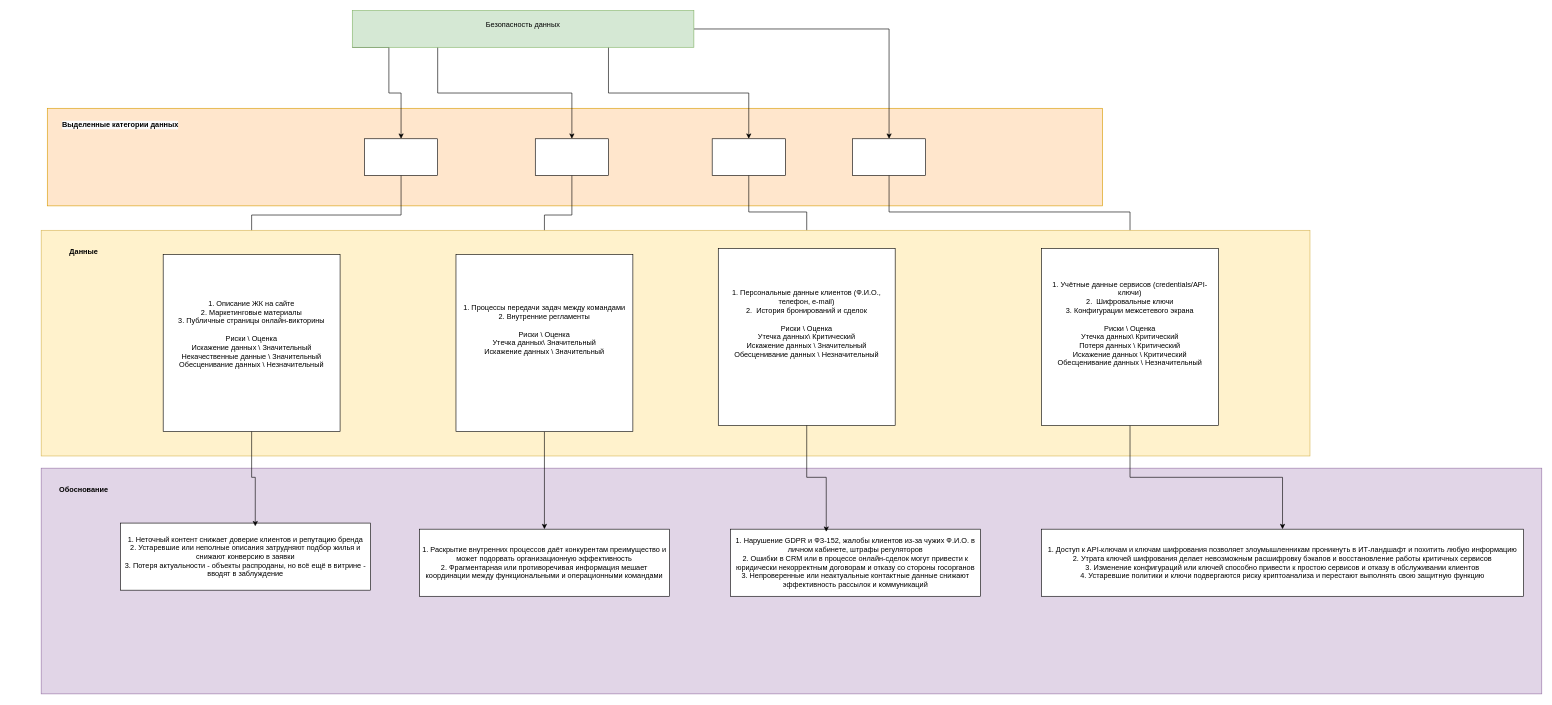
The diagram is 1552 pixels wide and 705 high, and some of its shapes have lost their labels. Each missing label, with the box of its shape:
Внутренние данные: (535, 138, 608, 175)
Конфиденциальные данные: (712, 138, 785, 175)
Публичные данные: (364, 138, 438, 175)
Секретные данные: (852, 138, 926, 175)
